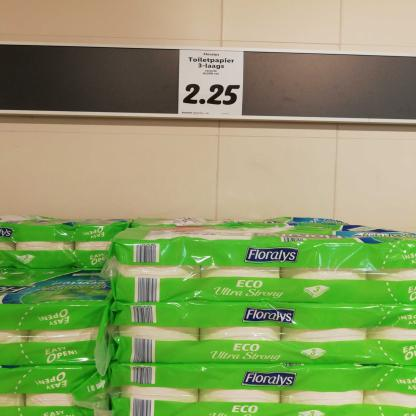prtg: (179, 51, 245, 117)
